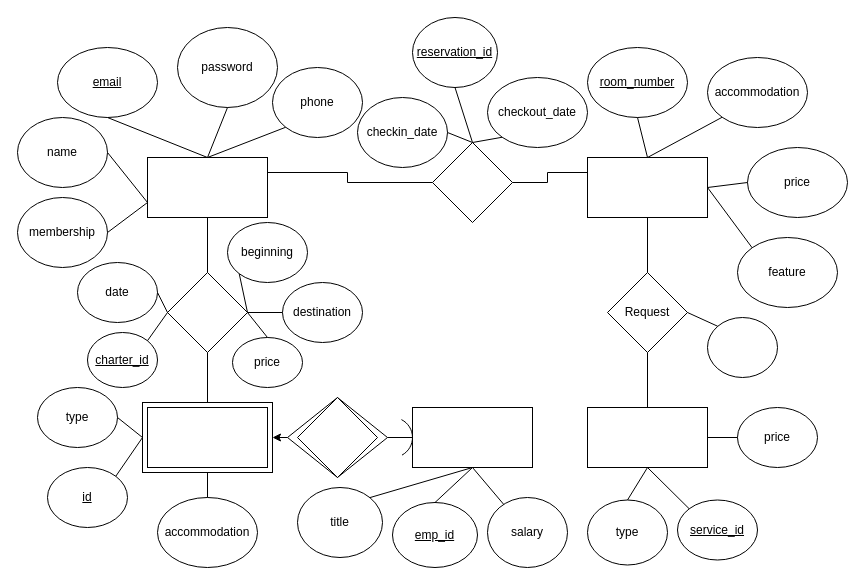
The diagram is 865 pixels wide and 585 high, and some of its shapes have lost their labels. The box of each missing label's shape, as (x1, y1, x2, y2) in pixels:
Charter: (166, 272, 248, 352)
Drive: (296, 396, 378, 478)
Employee: (412, 406, 532, 468)
Mobiles: (146, 406, 268, 468)
Reservation: (432, 142, 512, 222)
Room: (586, 156, 708, 218)
Service: (586, 406, 708, 468)
time: (706, 316, 778, 378)
User: (146, 156, 268, 218)
